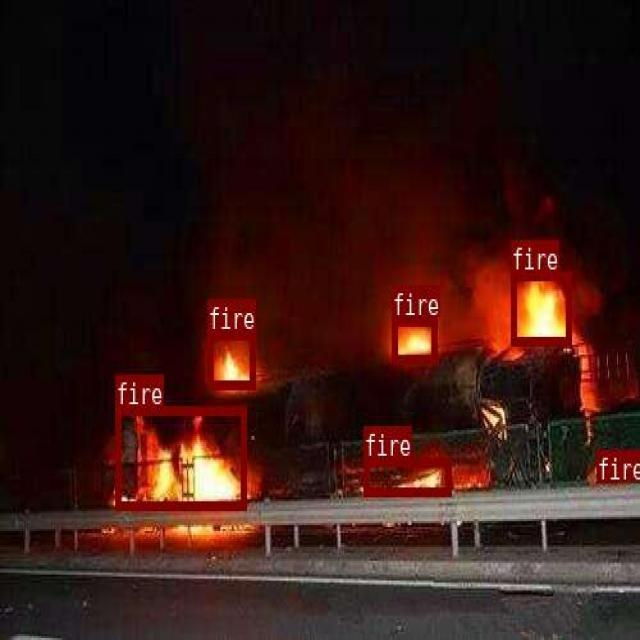fire: (115, 405, 245, 508), (510, 271, 570, 343), (363, 457, 450, 493), (207, 331, 255, 387), (391, 316, 436, 362), (596, 450, 616, 480)
